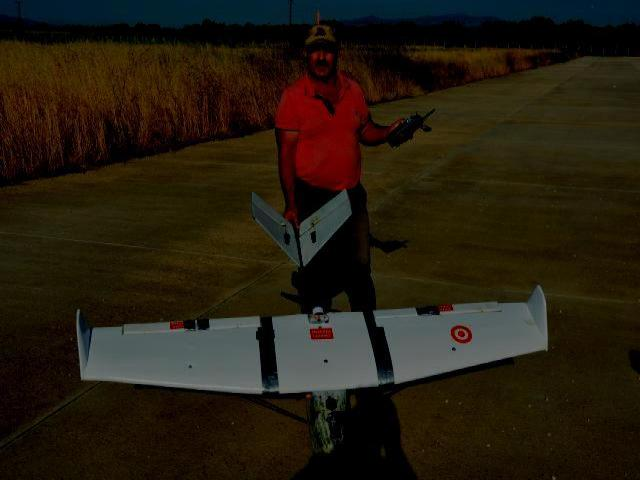iha: (78, 187, 553, 459)
